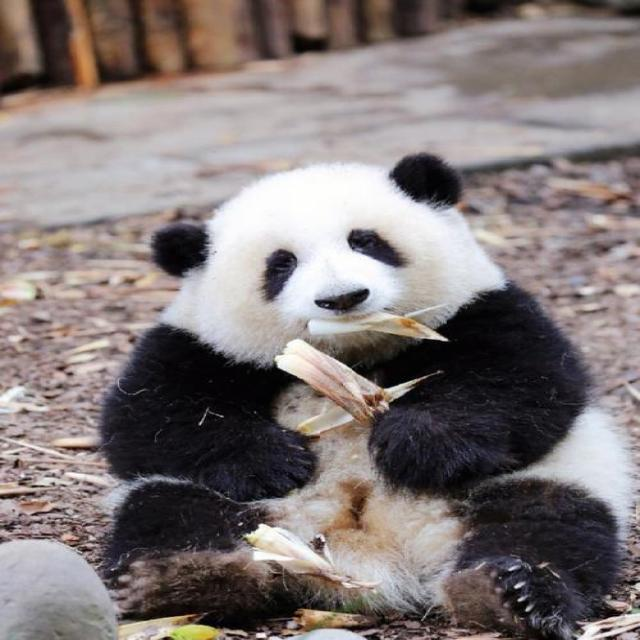panda: (70, 147, 638, 640)
